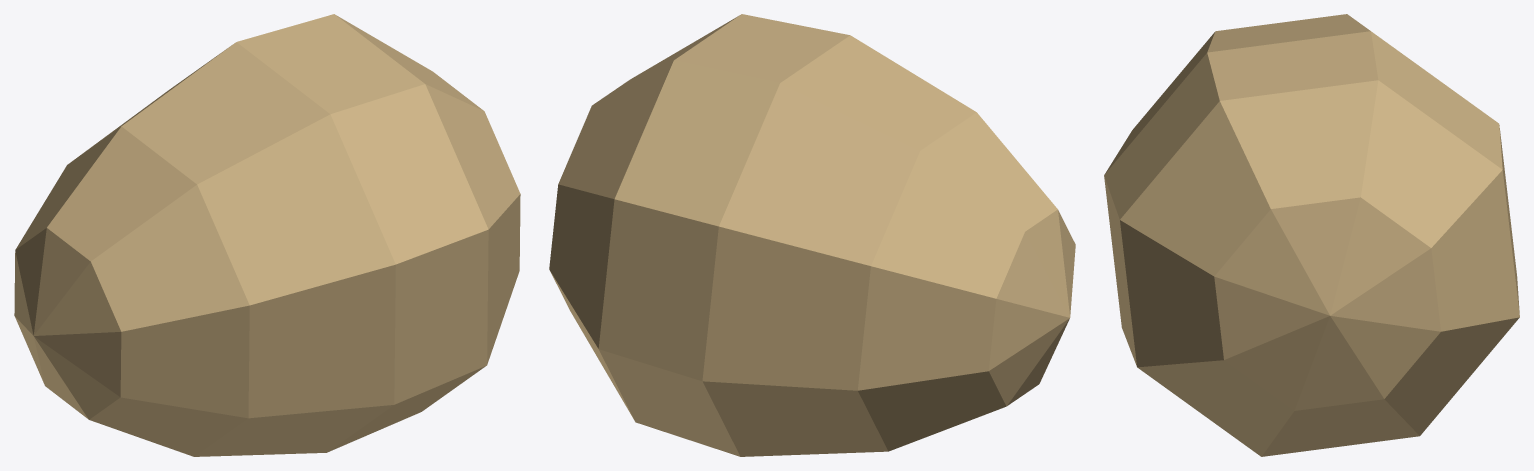
File: Egg.fbx
The picture shows the model from 3 angles, left to right: view 1: azimuth 30°, elevation 25°; view 2: azimuth 150°, elevation 25°; view 3: azimuth 270°, elevation 25°; orthographic projection.
Visible parts, largest first — view 1: node_egg-chicken_(5)_-256036; view 2: node_egg-chicken_(5)_-256036; view 3: node_egg-chicken_(5)_-256036.
Part boxes in pixels (x1=…): node_egg-chicken_(5)_-256036: x1=14, y1=14, x2=520, y2=456; node_egg-chicken_(5)_-256036: x1=549, y1=14, x2=1075, y2=456; node_egg-chicken_(5)_-256036: x1=1104, y1=14, x2=1519, y2=456.
Size of the model in its own units: 0.5148 by 0.3903 by 0.3925.
